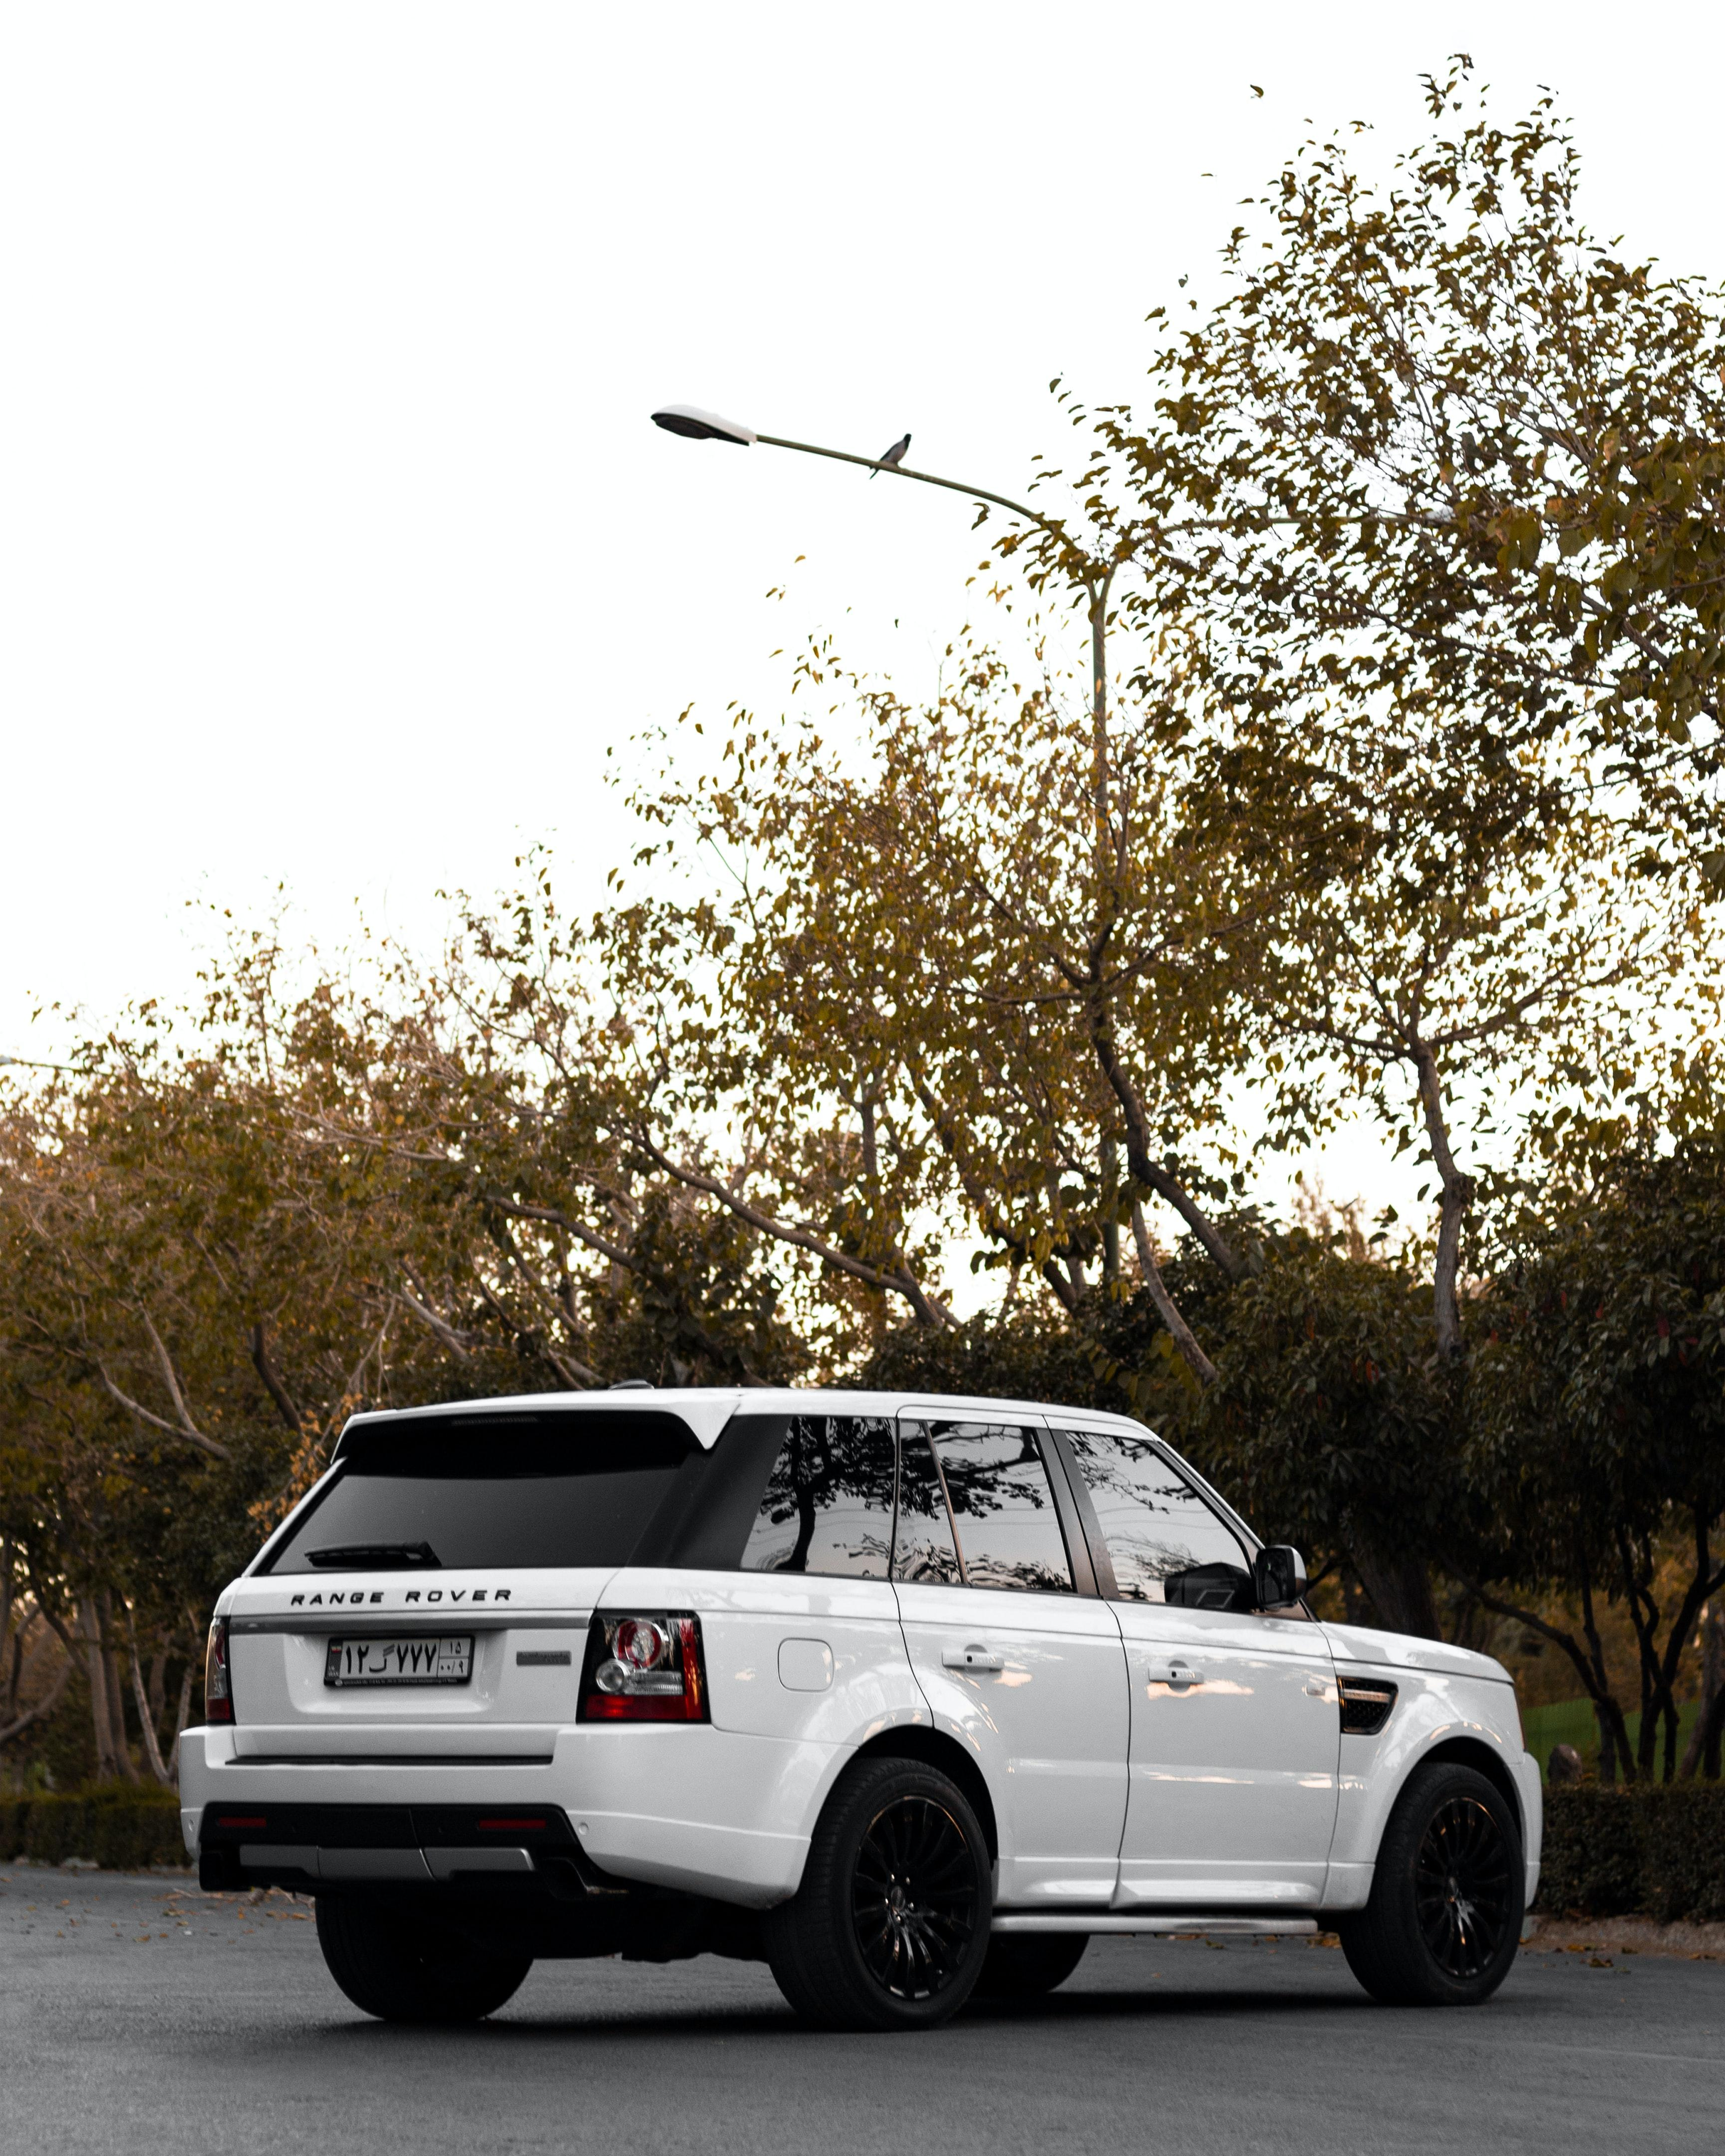range rover: (275, 1570, 535, 1626)
